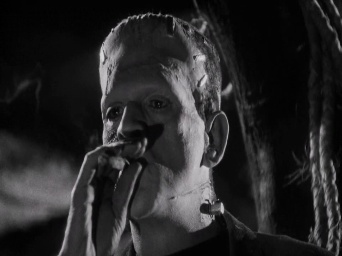smoke: (102, 151, 136, 173)
